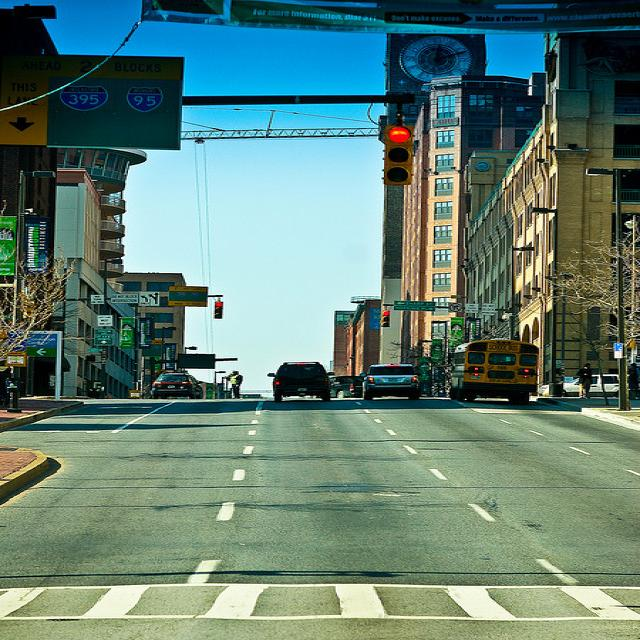Vehicle: (446, 341, 538, 404), (267, 361, 336, 402), (360, 364, 420, 401), (536, 374, 619, 398), (149, 370, 205, 400), (327, 375, 364, 398)
